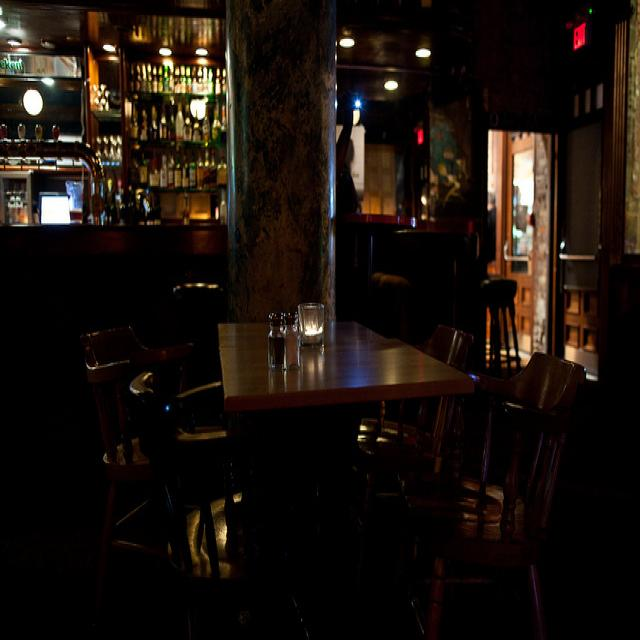Cup: (293, 286, 331, 350)
Table: (206, 291, 479, 487)
chair: (430, 343, 596, 640), (70, 446, 244, 604), (70, 286, 228, 446), (365, 292, 485, 469), (478, 259, 544, 367)
